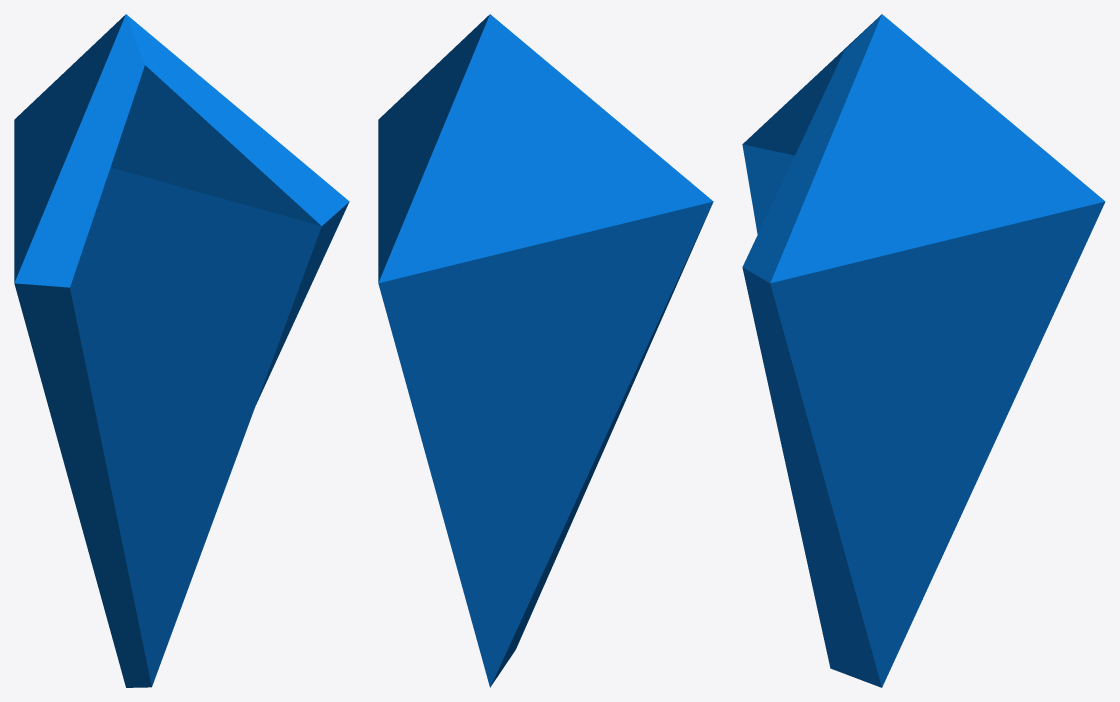
Rendered from sittingposition.glb.
3 views of the same model, side by side, from view 1: azimuth 30°, elevation 25°; view 2: azimuth 150°, elevation 25°; view 3: azimuth 270°, elevation 25° (orthographic).
Parts seen in each view (by area): view 1: Cone; view 2: Cone; view 3: Cone.
Part boxes in pixels (<box>): Cone: <box>14,14,349,687</box>; Cone: <box>378,14,713,687</box>; Cone: <box>742,14,1105,687</box>.
Size of the model in its own units: 0.8324 by 1.6 by 0.7807.
